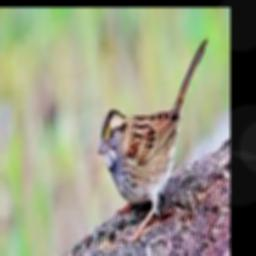Sparrow: (99, 39, 209, 242)
